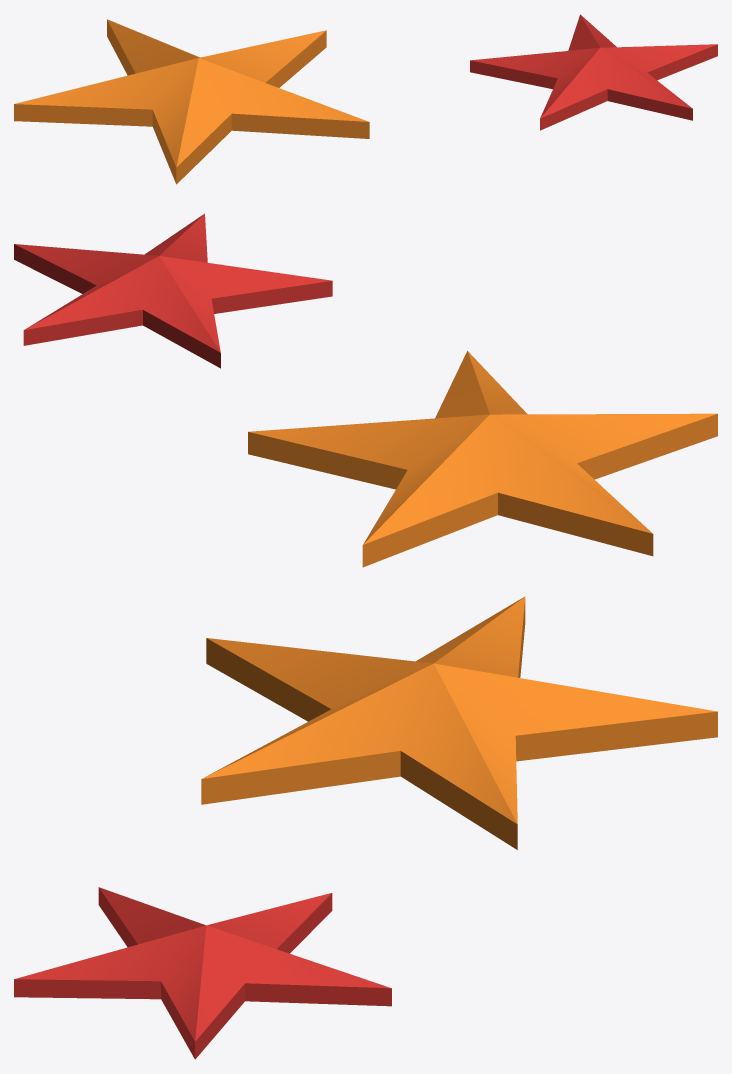
Rendered from Starfish.fbx.
3 renders of one model, top to bottom at view 1: azimuth 30°, elevation 25°; view 2: azimuth 150°, elevation 25°; view 3: azimuth 270°, elevation 25°, orthographic. The views are drawn at different scales.
Parts seen in each view (by area): view 1: Starfish; view 2: Starfish; view 3: Starfish.
Boxes of the visible parts, left/top/right/bottom form: Starfish: left=14, top=14, right=717, bottom=184; Starfish: left=14, top=213, right=717, bottom=567; Starfish: left=14, top=596, right=717, bottom=1059.
Bounding box in the file's own units: 0.9114 × 0.07 × 0.6192.
1 material, 1 textured.
